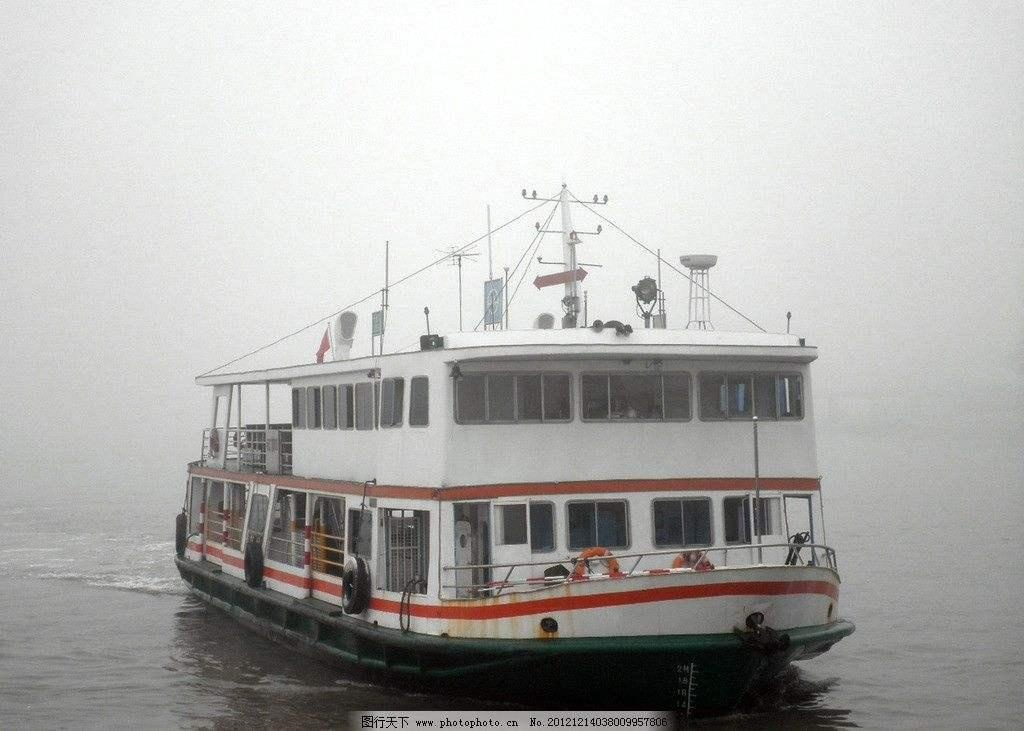otherboat: (166, 178, 853, 714)
